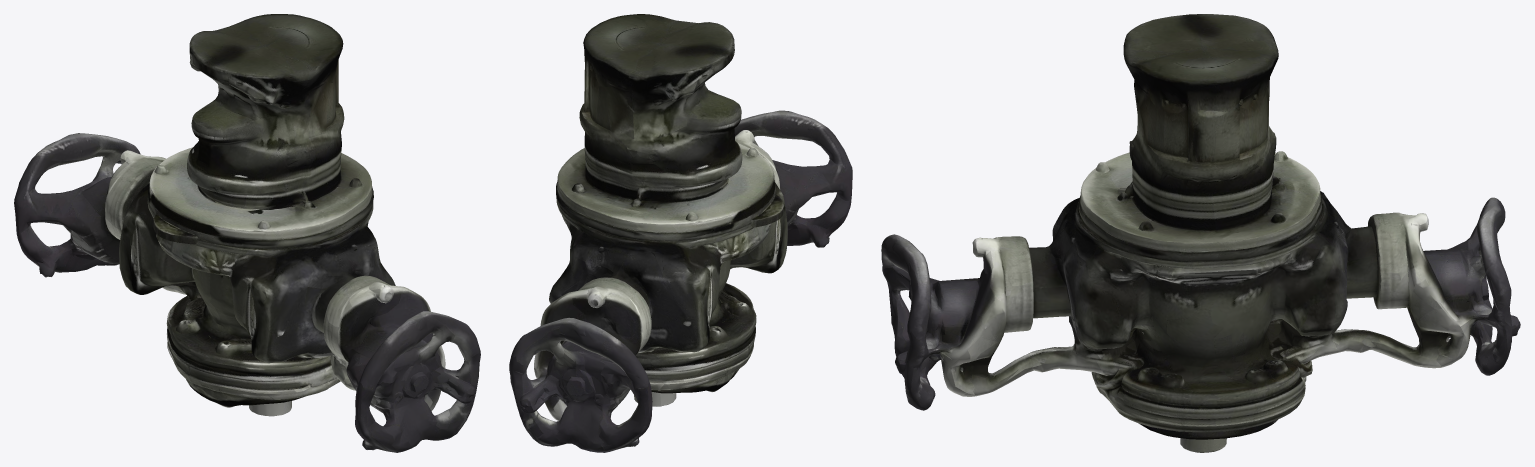
The picture shows the model from 3 angles, left to right: view 1: azimuth 30°, elevation 25°; view 2: azimuth 150°, elevation 25°; view 3: azimuth 270°, elevation 25°; orthographic projection. The views are drawn at different scales.
Parts seen in each view (by area): view 1: 0; view 2: 0; view 3: 0.
Boxes of the visible parts, <box> form: 0: <box>14,14,480,452</box>; 0: <box>509,14,852,452</box>; 0: <box>881,14,1520,452</box>.
Size of the model in its own units: 0.2233 by 0.3673 by 0.5383.
1 material, 1 textured.
